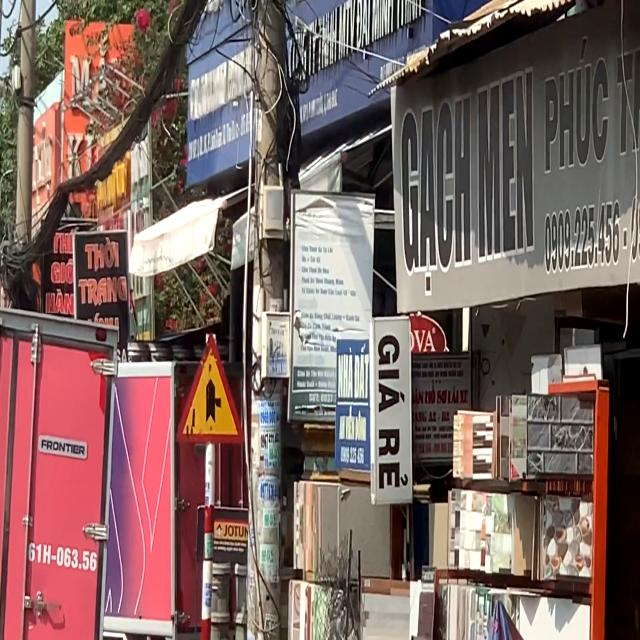W.207b: (174, 330, 244, 446)
